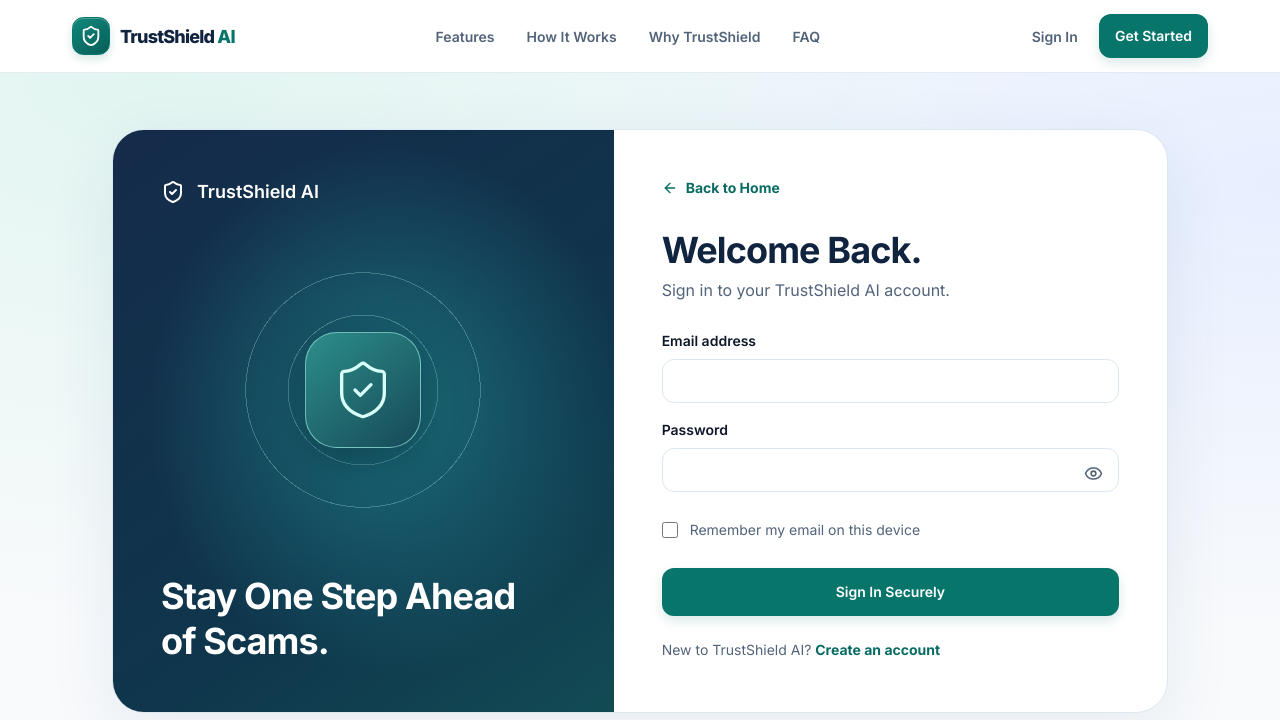
Test case: TrustShield authentication UI › disables login during submission, ignores an external destination and remembers only opted-in email
This screenshot has width=1280, height=720.
Later steps or results of the test are not shown.
Type "alex@example.com" into the field labelled "Email address" at (890, 381), box x1=662 y1=359 x2=1119 y2=403
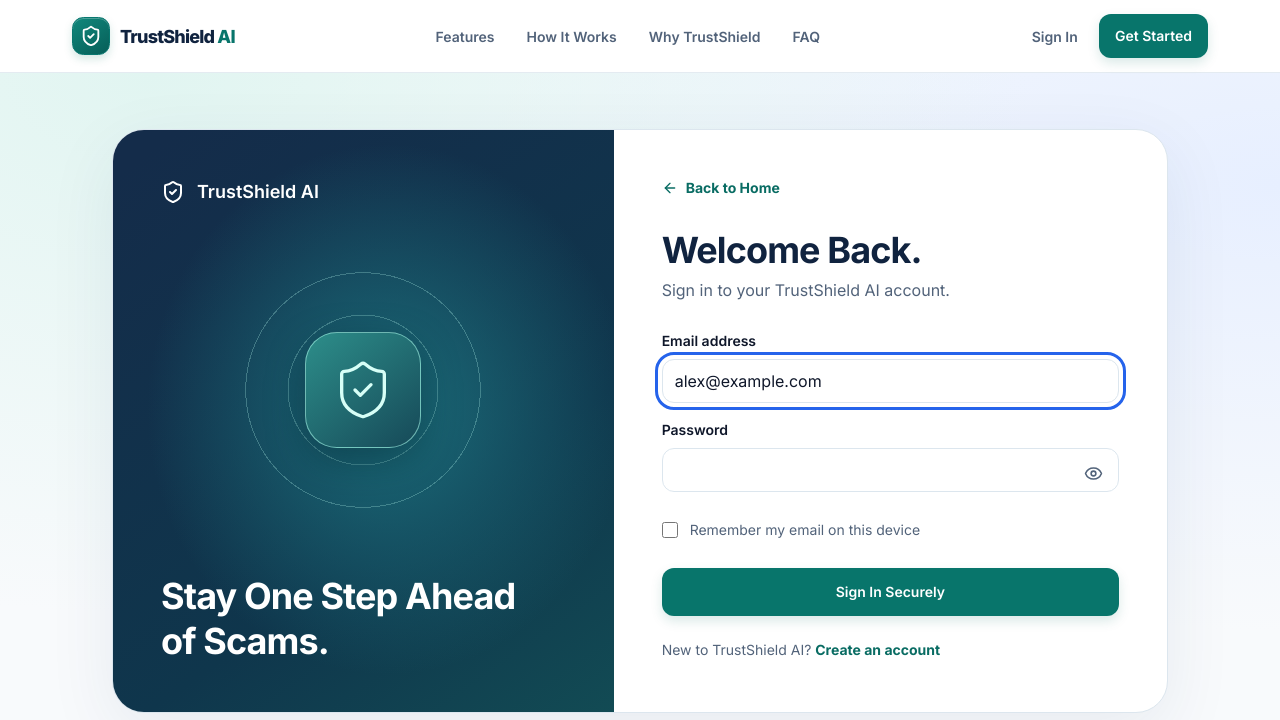
Type "correct horse battery staple" into the password field labelled "Password" at (890, 470), box x1=662 y1=448 x2=1119 y2=492
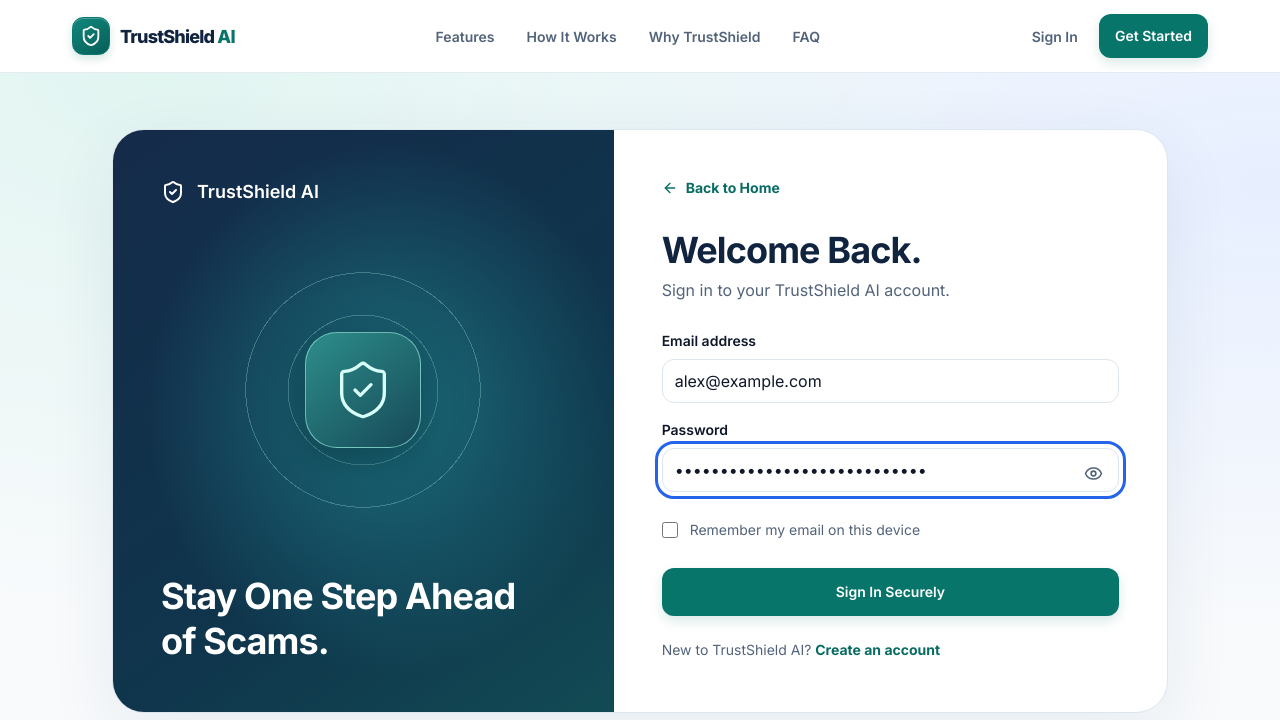
Click the checkbox labelled "Remember my email on this device" at (670, 530), box x1=662 y1=522 x2=678 y2=538
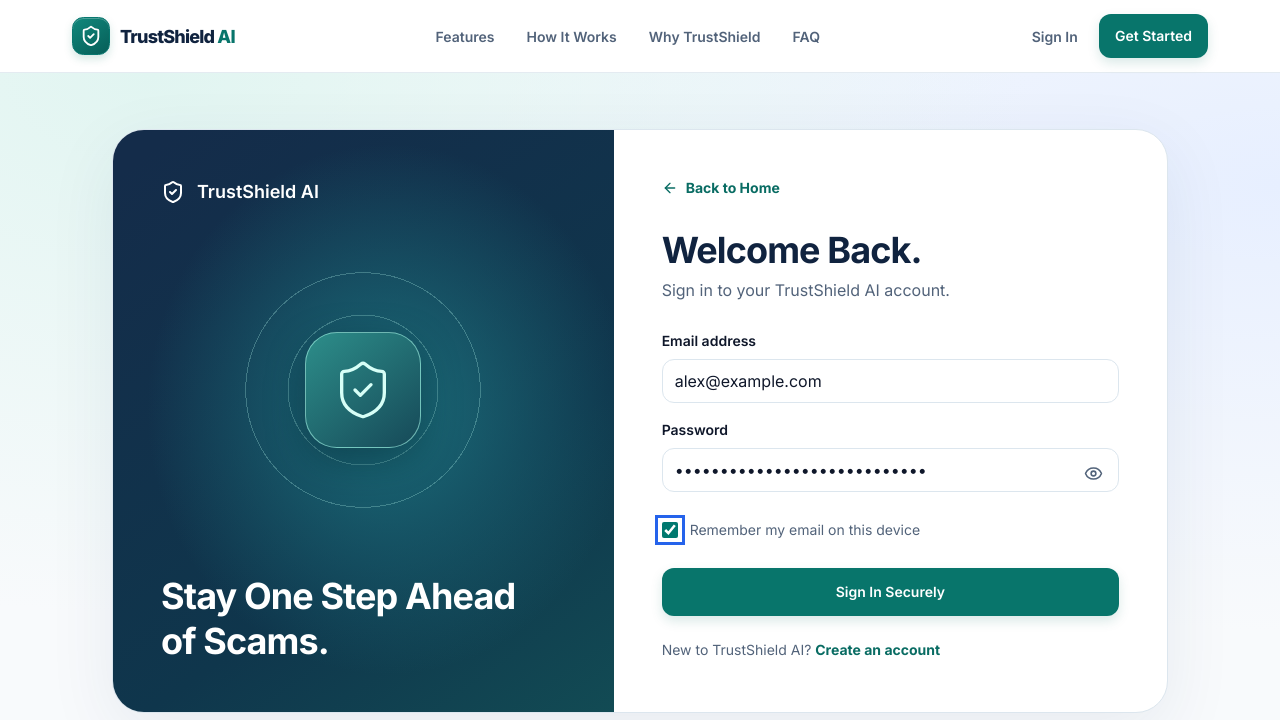
Click the button "Sign In Securely" at (890, 592), box x1=662 y1=568 x2=1119 y2=616
(page scrolled)
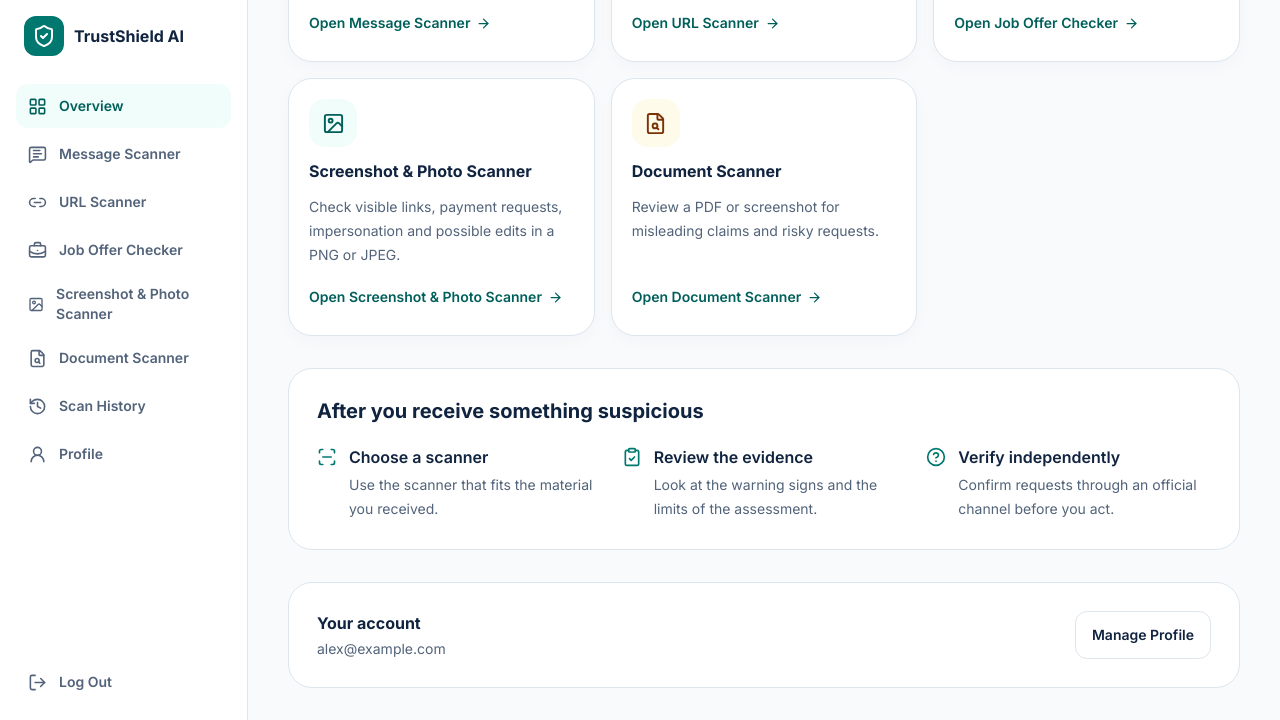
Check: the text "alex@example.com" is shown, box x1=317 y1=639 x2=446 y2=659
